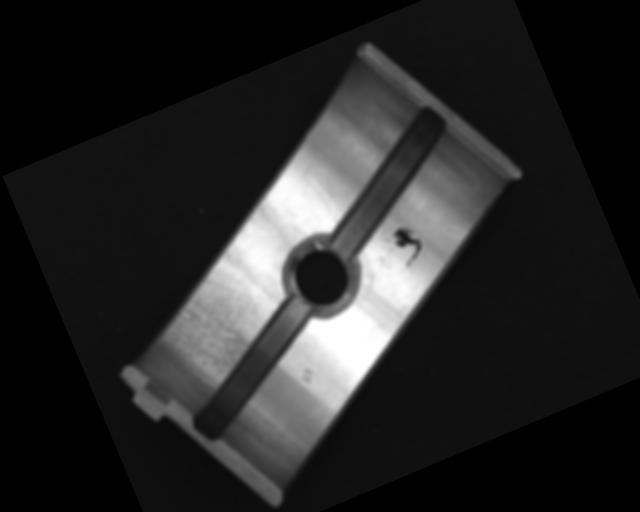blot: (388, 219, 429, 270)
bruise: (296, 365, 319, 389)
gap: (298, 101, 482, 258), (164, 296, 339, 444)
hole: (273, 225, 372, 327)
nick: (308, 169, 334, 213)
scratch: (140, 256, 283, 397)
